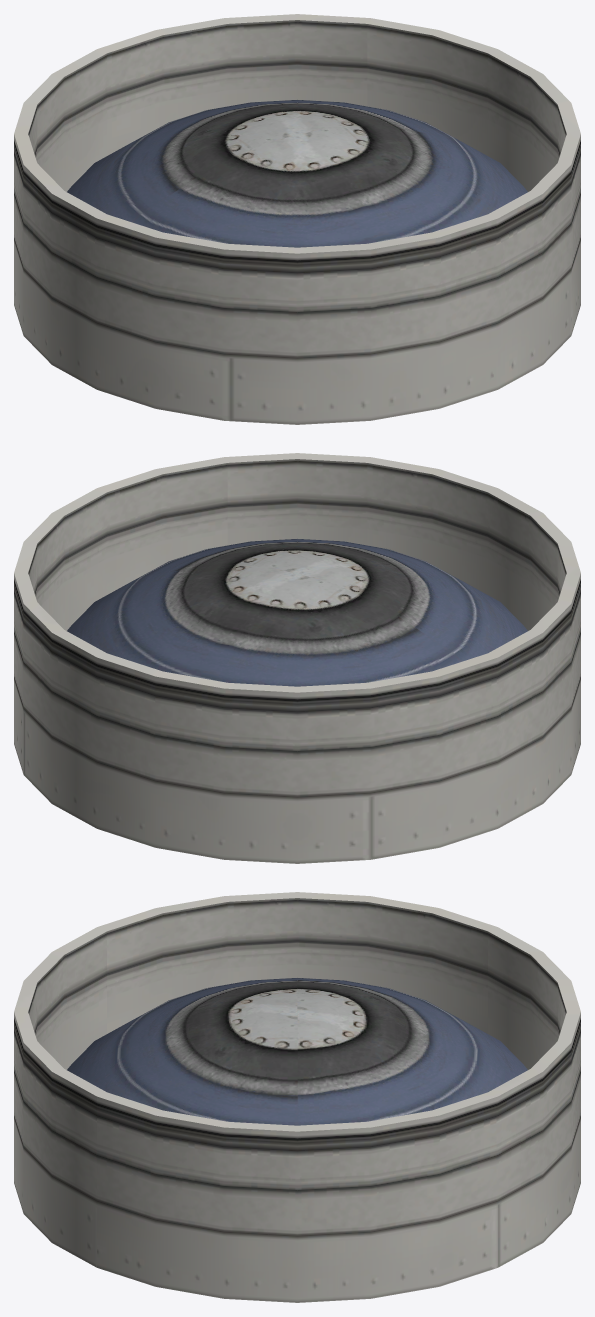
File: TITAN_Tank_Cap.obj
3 views of the same model, one above another, from view 1: azimuth 30°, elevation 25°; view 2: azimuth 150°, elevation 25°; view 3: azimuth 270°, elevation 25° (orthographic).
Visible parts, largest first — view 1: Cap; view 2: Cap; view 3: Cap.
Part boxes in pixels (<box>): Cap: <box>14,14,580,424</box>; Cap: <box>14,453,580,863</box>; Cap: <box>14,892,580,1302</box>.
Bounding box in the file's own units: 3 × 1 × 3.
